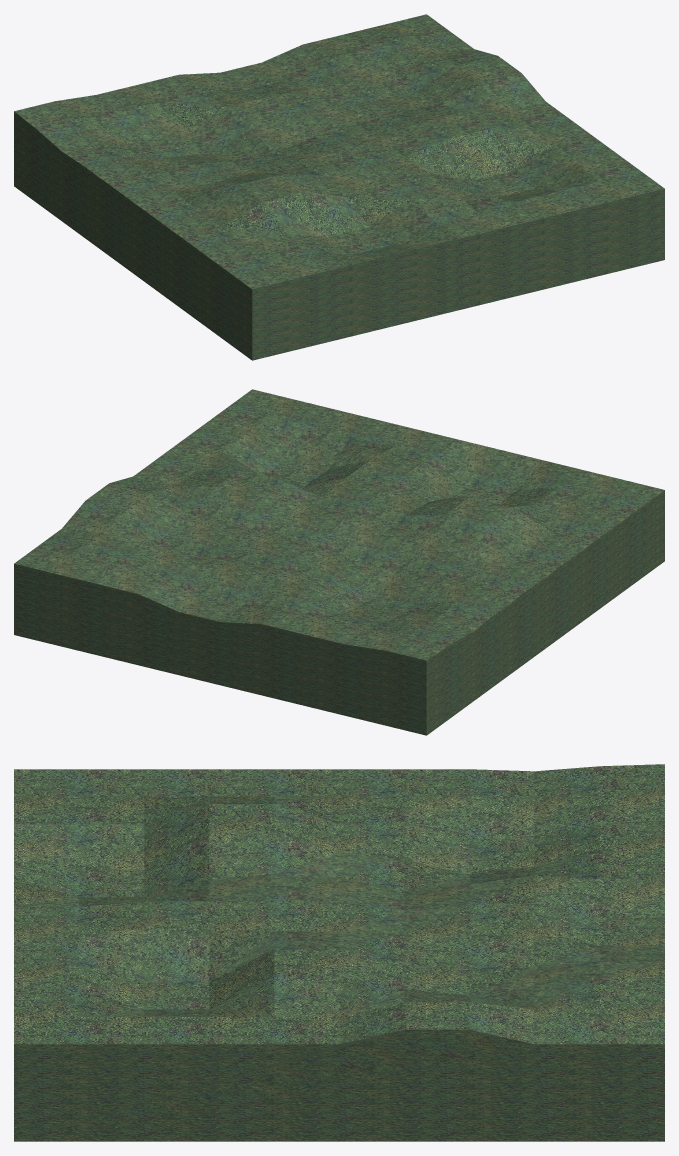
The model's file is fireflyhollow_forestfloor.fbx.
3 views of the same model, one above another, from view 1: azimuth 30°, elevation 25°; view 2: azimuth 150°, elevation 25°; view 3: azimuth 270°, elevation 25° (orthographic). The views are drawn at different scales.
Parts seen in each view (by area): view 1: land; view 2: land; view 3: land.
Boxes of the visible parts, x1,y1,x2,y2 form: land: (14,14,664,360); land: (14,389,664,735); land: (14,764,664,1141).
Size of the model in its own units: 21058 by 4205 by 21058.
1 material, 1 textured.
